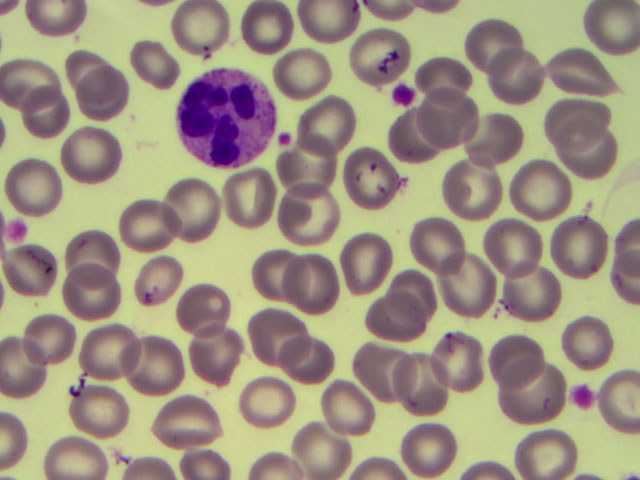Platelets: (3, 218, 35, 244), (391, 83, 415, 104), (573, 389, 590, 410), (280, 128, 293, 142)
RBC: (54, 432, 103, 480), (519, 432, 568, 480), (67, 47, 116, 94), (80, 71, 129, 118), (23, 89, 72, 136), (6, 54, 55, 101), (73, 130, 122, 177), (10, 154, 59, 201), (69, 221, 118, 268), (61, 261, 110, 308), (14, 249, 63, 296), (23, 313, 72, 360), (1, 342, 50, 389), (85, 328, 134, 375), (68, 380, 117, 427), (163, 394, 212, 441), (133, 340, 182, 387), (200, 331, 249, 378), (174, 275, 223, 322), (135, 258, 184, 305), (122, 196, 171, 243), (158, 187, 207, 234), (218, 171, 267, 218), (285, 137, 334, 184), (315, 92, 364, 139), (276, 44, 325, 91), (244, 2, 293, 49), (168, 5, 217, 52), (139, 42, 188, 89), (346, 27, 395, 74), (308, 4, 357, 51), (457, 17, 506, 64), (424, 50, 473, 97), (430, 96, 479, 143), (398, 116, 447, 163), (483, 111, 532, 158), (357, 150, 406, 197), (284, 196, 333, 243), (292, 263, 341, 310), (255, 249, 304, 296), (350, 231, 399, 278), (369, 287, 418, 334), (392, 257, 441, 304), (410, 221, 459, 268), (442, 259, 491, 306), (488, 224, 537, 271), (519, 164, 568, 211), (567, 135, 616, 182), (542, 86, 591, 133), (547, 49, 596, 96), (560, 217, 609, 264), (505, 271, 554, 318), (440, 335, 489, 382), (404, 359, 453, 406), (364, 350, 413, 397), (327, 380, 376, 427), (306, 424, 355, 471), (249, 381, 298, 428), (286, 340, 335, 387), (258, 311, 307, 358), (512, 371, 561, 418), (500, 337, 549, 384), (412, 422, 461, 469), (591, 1, 640, 47)
WBC: (178, 65, 276, 166)
